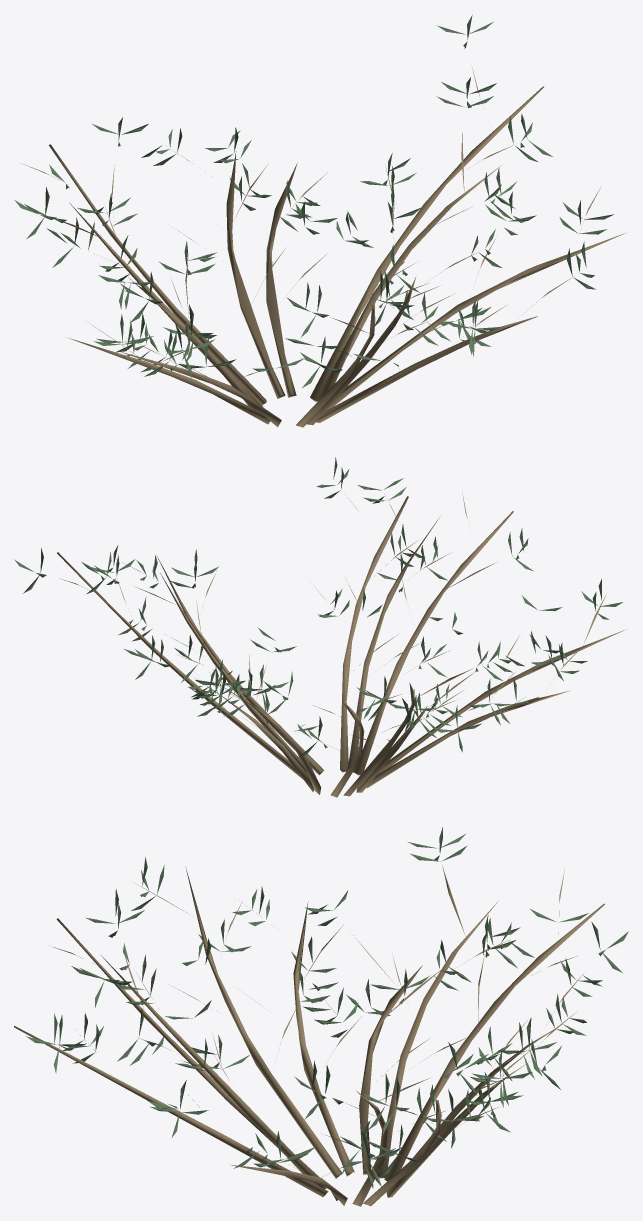
Rendered from Romarin_2_Niveau2.fbx.
3 views of the same model, one above another, from view 1: azimuth 30°, elevation 25°; view 2: azimuth 150°, elevation 25°; view 3: azimuth 270°, elevation 25° (orthographic). The views are drawn at different scales.
Parts seen in each view (by area): view 1: Romarin_2_Niveau2; view 2: Romarin_2_Niveau2; view 3: Romarin_2_Niveau2.
Boxes of the visible parts, x1=… form: Romarin_2_Niveau2: x1=14, y1=15, x2=626, y2=427; Romarin_2_Niveau2: x1=14, y1=457, x2=626, y2=797; Romarin_2_Niveau2: x1=14, y1=827, x2=628, y2=1206.
Bounding box in the file's own units: 85.76 × 41.07 × 79.49.
